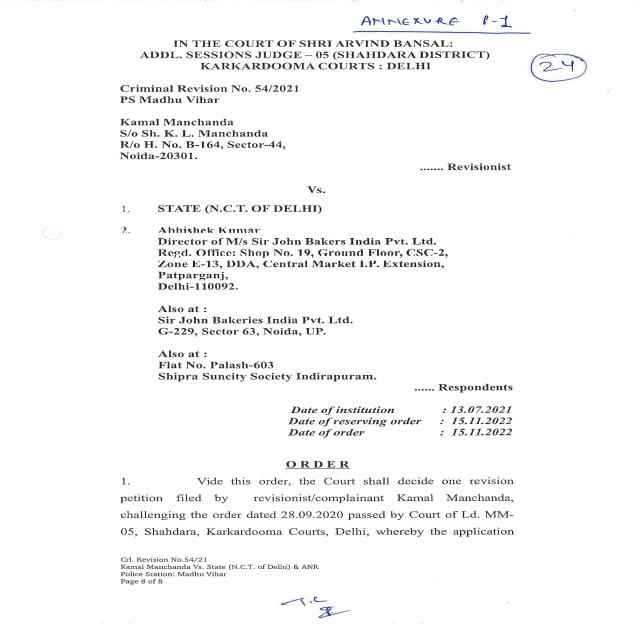page-number: (491, 36, 635, 162)
